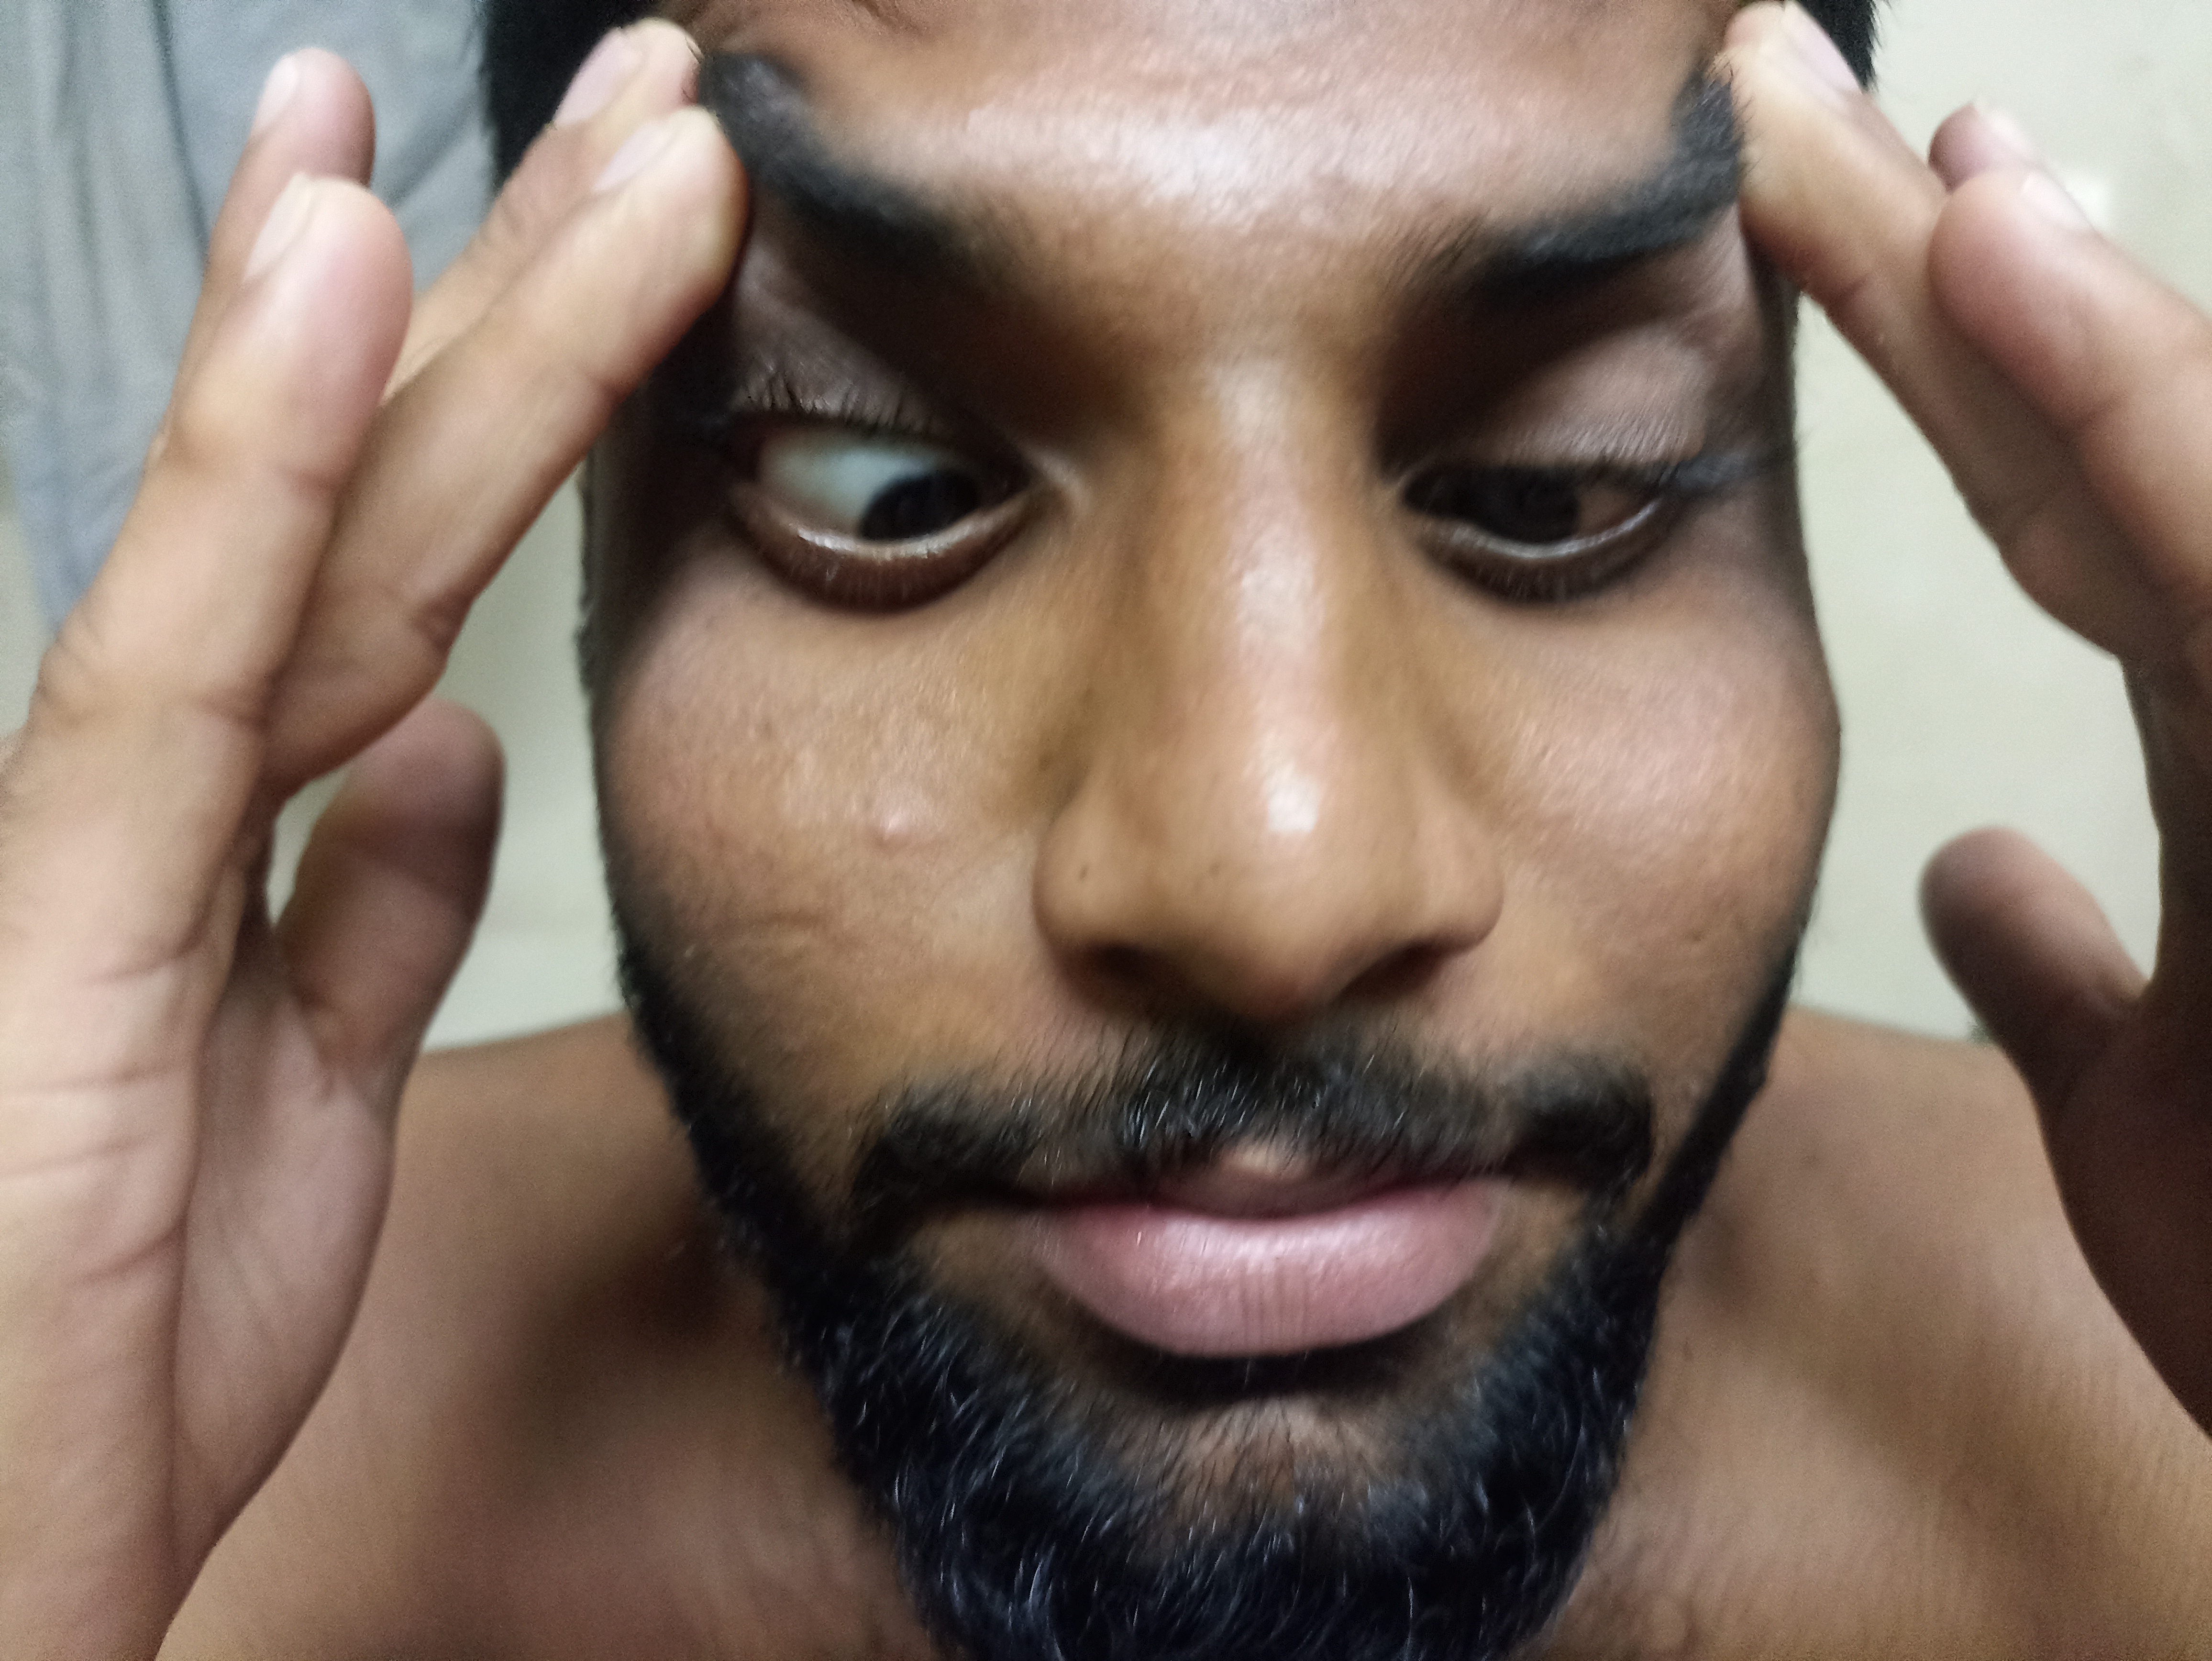EYE DOWN: (1263, 274, 1853, 748), (569, 304, 1153, 736)
